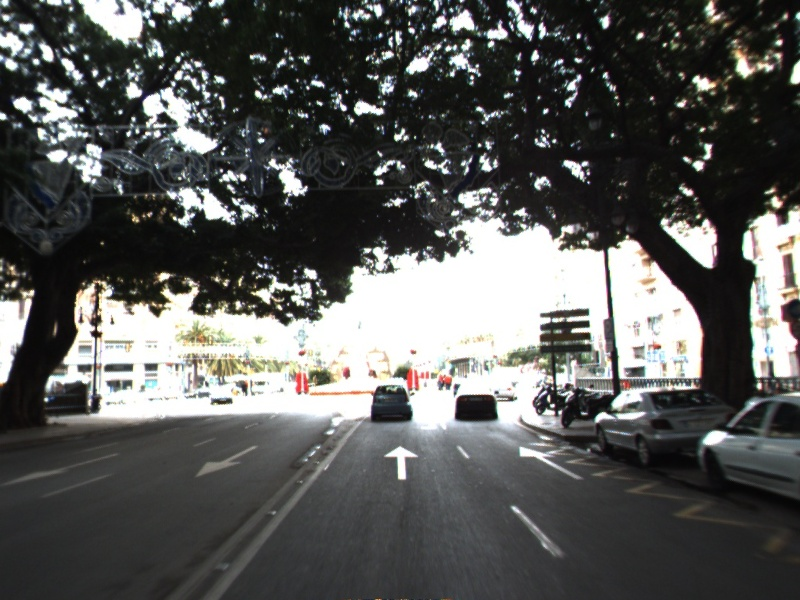STRAIGHT: (517, 444, 587, 482), (382, 443, 421, 481)
